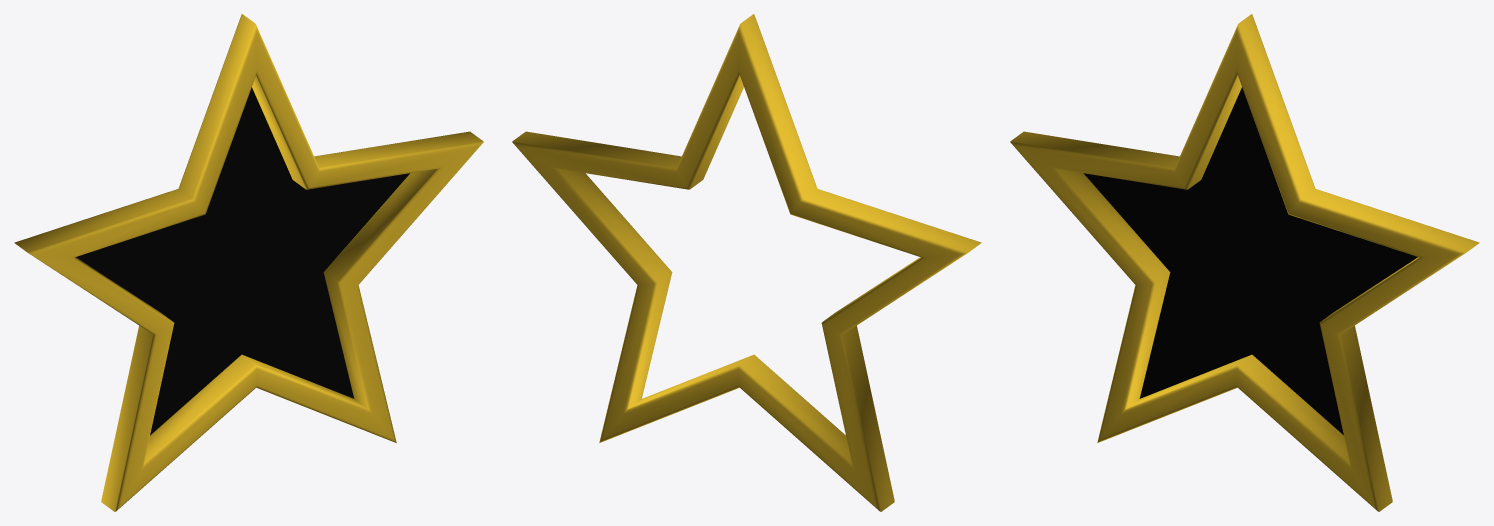
Rendered from portal_star_merged.glb.
3 renders of one model, left to right at view 1: azimuth 30°, elevation 25°; view 2: azimuth 150°, elevation 25°; view 3: azimuth 330°, elevation 25°, orthographic.
Visible parts, largest first — view 1: PORTAL_STAR_MERGED; view 2: PORTAL_STAR_MERGED; view 3: PORTAL_STAR_MERGED.
Boxes of the visible parts, <box> form: PORTAL_STAR_MERGED: <box>14,14,483,511</box>; PORTAL_STAR_MERGED: <box>512,14,981,511</box>; PORTAL_STAR_MERGED: <box>1010,14,1479,511</box>.
Size of the model in its own units: 1.94 by 1.85 by 0.12.
